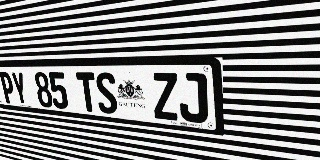5: (48, 72, 69, 110)
8: (33, 72, 54, 108)
J: (178, 73, 208, 124)
P: (0, 72, 16, 104)
S: (94, 72, 119, 115)
T: (76, 72, 99, 113)
Y: (10, 72, 29, 105)
Z: (151, 73, 179, 121)
